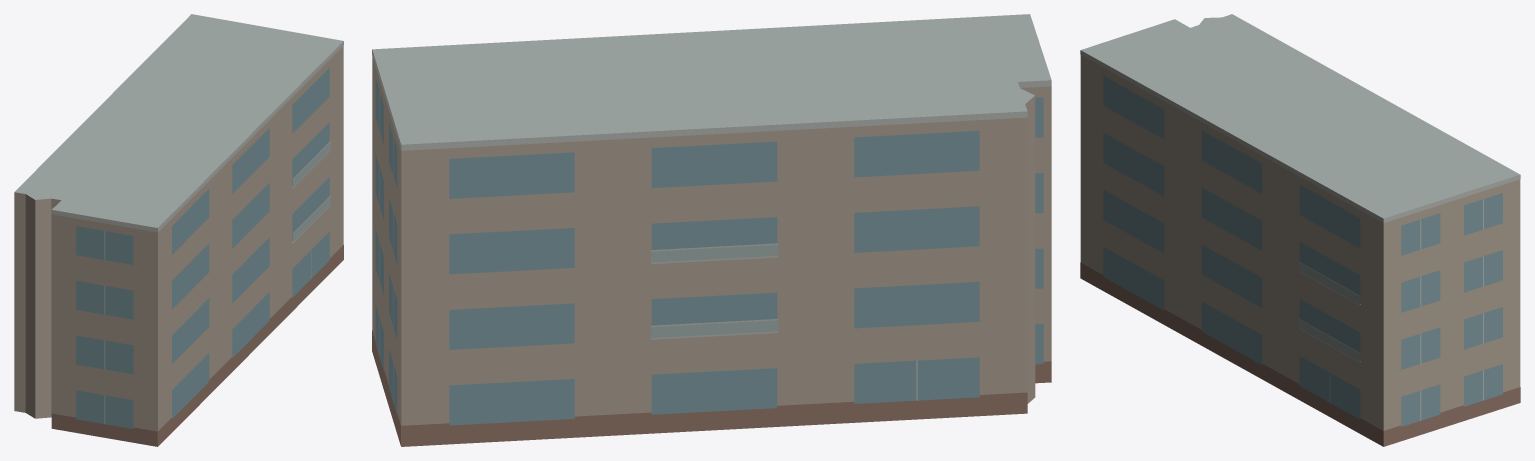
The model's file is survey-upis-32677259.glb.
3 views of the same model, side by side, from view 1: azimuth 30°, elevation 25°; view 2: azimuth 150°, elevation 25°; view 3: azimuth 270°, elevation 25° (orthographic). The views are drawn at different scales.
Parts seen in each view (by area): view 1: survey-upis-32677259.tmp; view 2: survey-upis-32677259.tmp; view 3: survey-upis-32677259.tmp.
Boxes of the visible parts, left/top/right/bottom form: survey-upis-32677259.tmp: left=14, top=14, right=343, bottom=446; survey-upis-32677259.tmp: left=372, top=14, right=1051, bottom=446; survey-upis-32677259.tmp: left=1080, top=14, right=1520, bottom=446.
Bounding box in the file's own units: 23.28 × 12.1 × 21.14.
